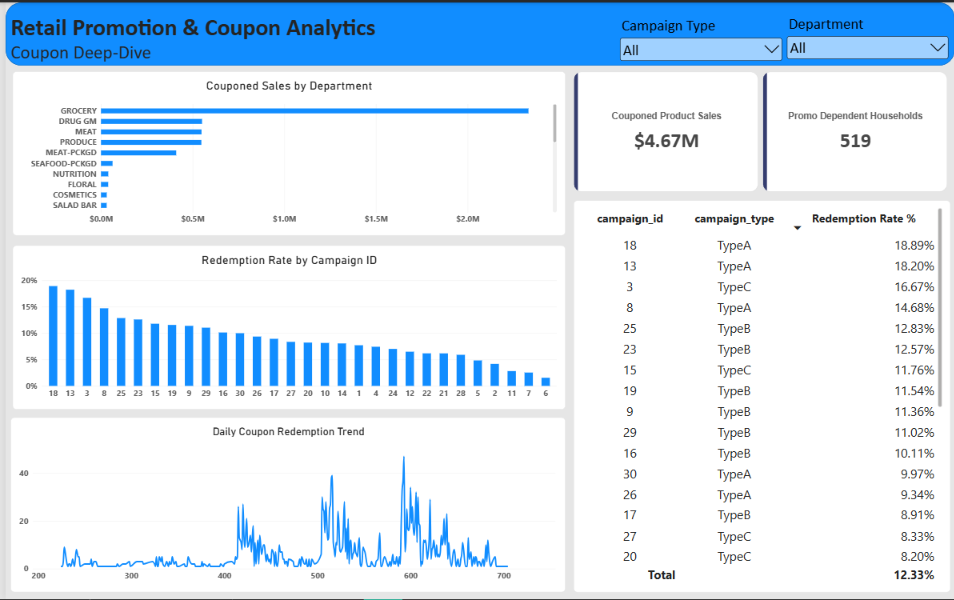

What the dashboard file says about the page in this screenshot:
{"tool":"powerbi","page":{"name":"Coupon Analysis","canvas":[1921,1208],"ordinal":1},"visuals":[{"type":"shape","box":[0,0,1920,128],"z":0},{"type":"cardVisual","fields":{"Data":["Measures (2).Couponed Product Sales","Measures (2).Promo Dependent Households"]},"box":[1149,139.6,756.5,244.8],"z":1000},{"type":"clusteredBarChart","title":"Couponed Sales by Department","fields":{"Category":["dim_product.department"],"Y":["Measures (2).Couponed Product Sales"]},"box":[14,140,1118,332],"z":2000},{"type":"tableEx","fields":{"Values":["campaign_household.campaign_id","dim_campaign.campaign_type","Measures (2).Redemption Rate %"]},"box":[1149,400.5,762.6,792.9],"z":6000},{"type":"slicer","fields":{"Values":["dim_product.department"]},"box":[1576,24,336,104],"z":7000},{"type":"slicer","fields":{"Values":["dim_campaign.campaign_type"]},"box":[1238,14,338,124],"z":8000},{"type":"textbox","box":[10,20,1200,134],"z":9000},{"type":"clusteredColumnChart","title":"Redemption Rate by Campaign ID","fields":{"Category":["campaign_household.campaign_id"],"Y":["Measures (2).Redemption Rate %"]},"box":[14,492,1118,332],"z":9001},{"type":"lineChart","title":"Daily Coupon Redemption Trend","fields":{"Category":["coupon_redemption.day_no"],"Y":["CountNonNull(coupon_redemption.household_key)"]},"box":[10.1,839.5,1122.7,354],"z":9002}]}

Visuals, with their boxes in screenshot pixels (x1, y1, x2, y2), scaled from the page's 1921x1208 canvas onto the 954x600 screenshot:
shape: [left=0, top=0, right=953, bottom=64]
cardVisual - Measures (2).Couponed Product Sales x Measures (2).Promo Dependent Households: [left=571, top=69, right=946, bottom=191]
"Couponed Sales by Department" clusteredBarChart: [left=7, top=70, right=562, bottom=234]
tableEx - campaign_household.campaign_id x dim_campaign.campaign_type: [left=571, top=199, right=949, bottom=593]
slicer - dim_product.department: [left=783, top=12, right=950, bottom=64]
slicer - dim_campaign.campaign_type: [left=615, top=7, right=783, bottom=69]
textbox: [left=5, top=10, right=601, bottom=76]
"Redemption Rate by Campaign ID" clusteredColumnChart: [left=7, top=244, right=562, bottom=409]
"Daily Coupon Redemption Trend" lineChart: [left=5, top=417, right=563, bottom=593]
